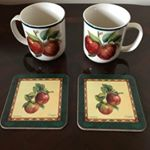cups: (82, 2, 145, 65), (9, 1, 69, 63)
